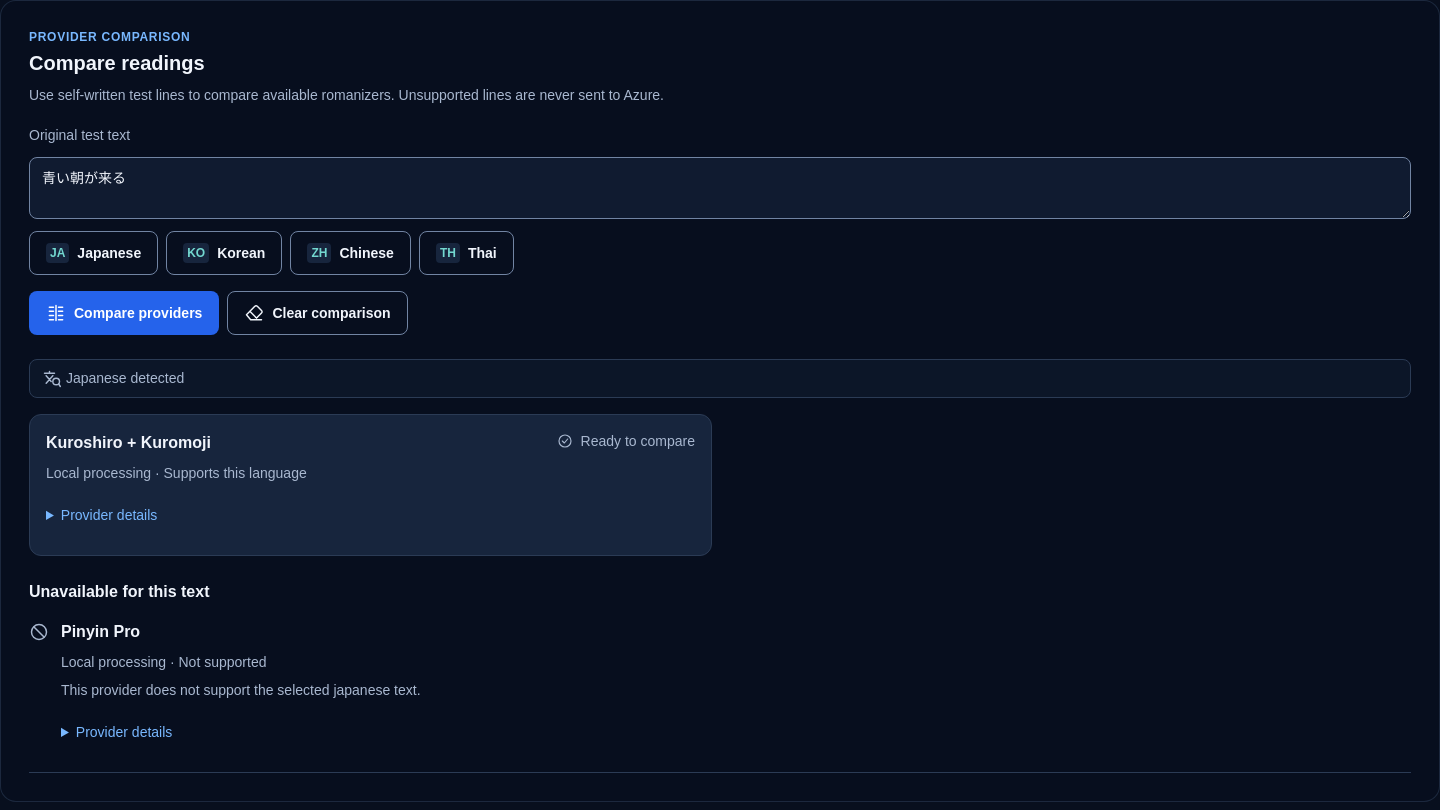
ProviderComparison › clears stale results when switching between Japanese and Chinese
The width and height of the screenshot is (1440, 810).
Click the button "Compare providers".
click(124, 313)  # box [29,291,219,335]
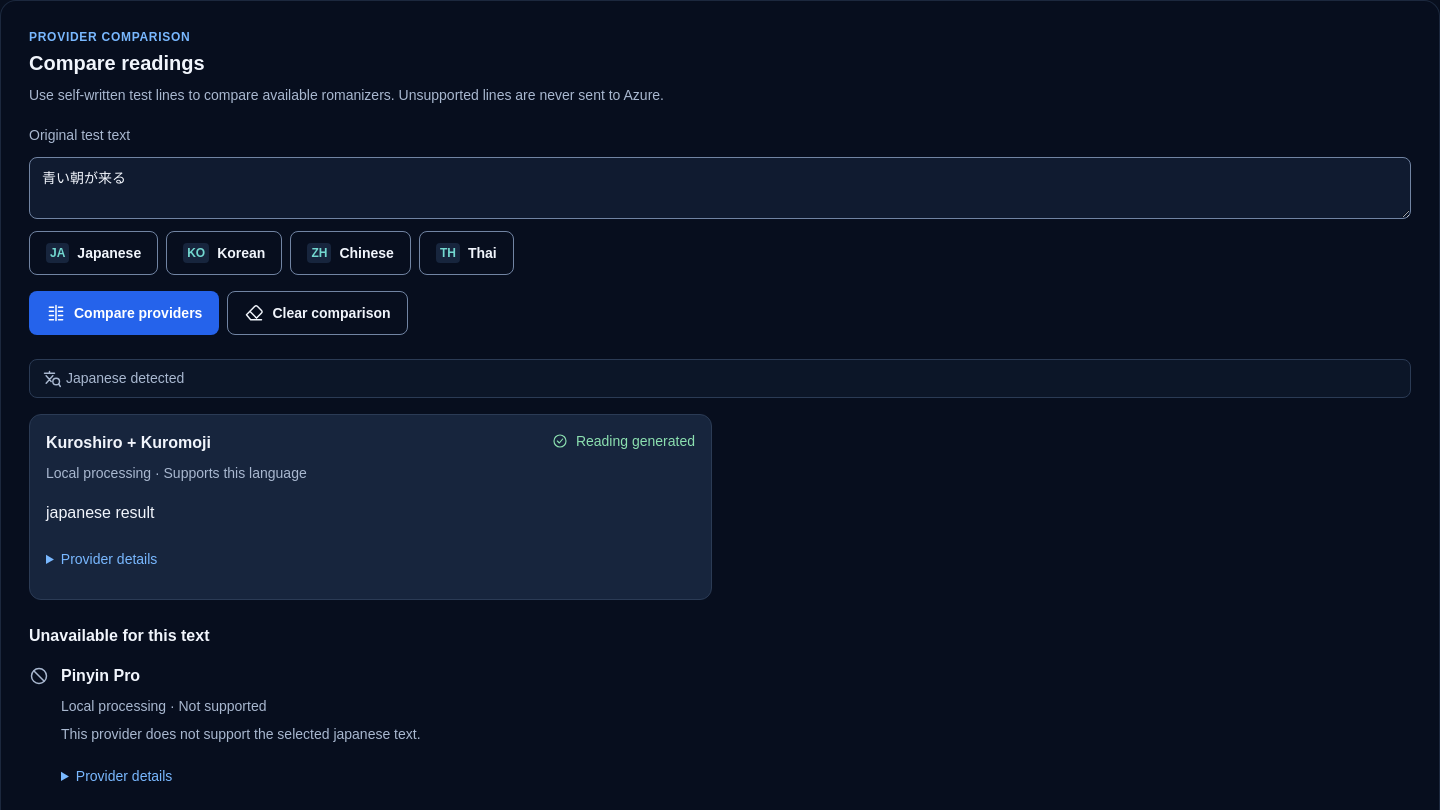
Expected: the text "japanese result" is shown, [46,504,154,521]
Click the button "ZH Chinese".
click(351, 253)  # box [290,231,411,275]
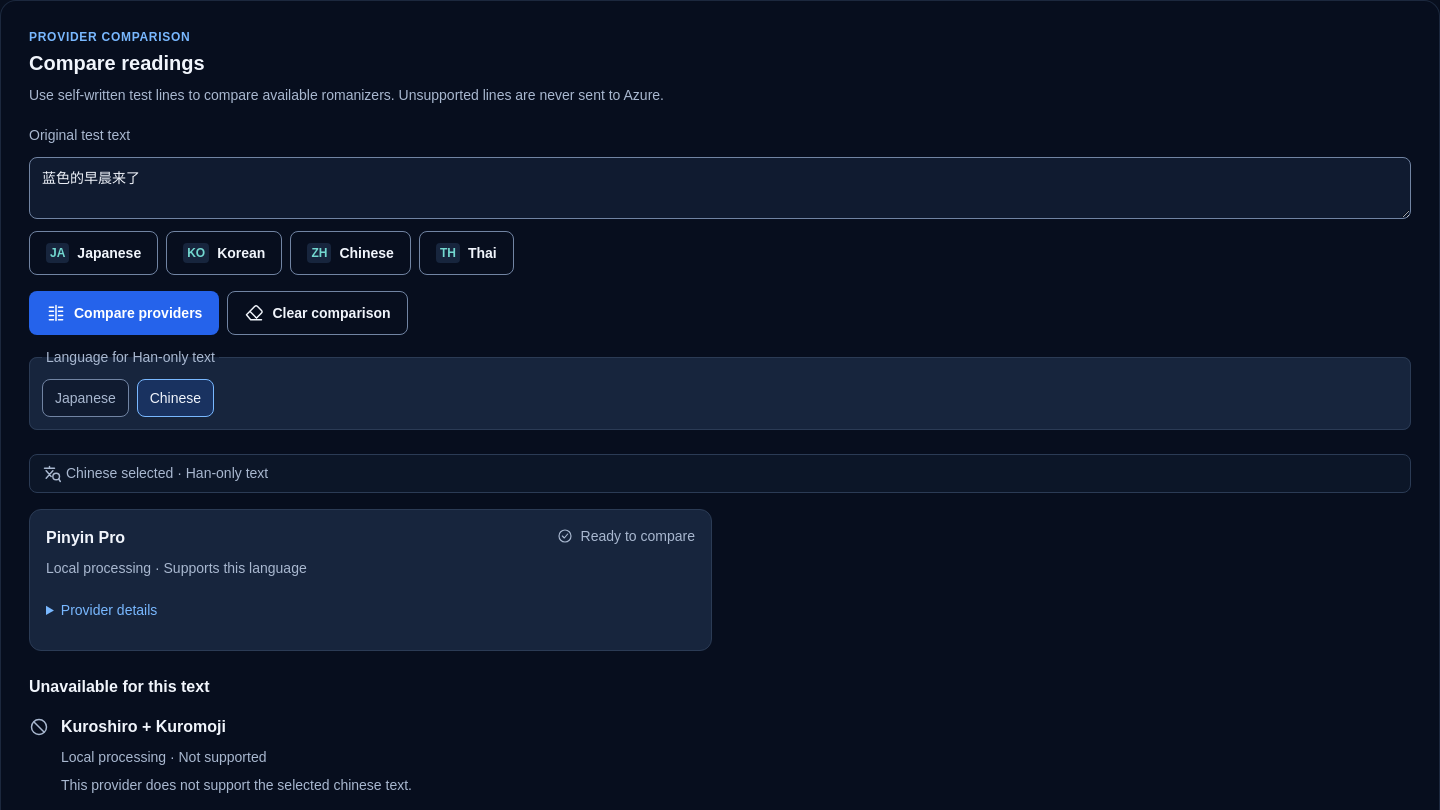
Expected: the text "japanese result" is gone
Expected: the element named "Detected language" reads "Chinese selected · Han-only text", [66,465,268,481]
Click the button "JA Japanese".
click(94, 253)  # box [29,231,158,275]
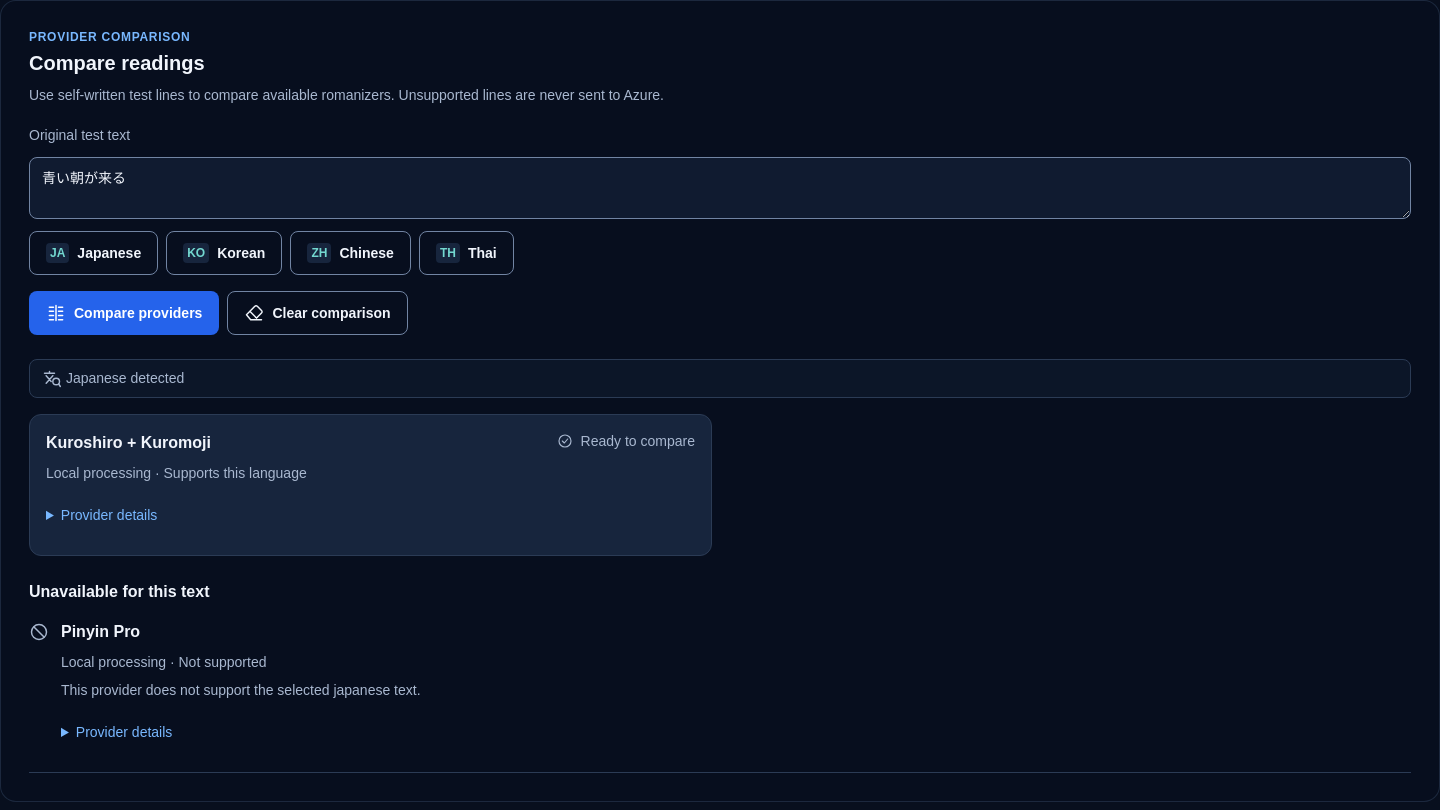
Expected: the element named "Detected language" reads "Japanese detected", [66,370,184,386]
